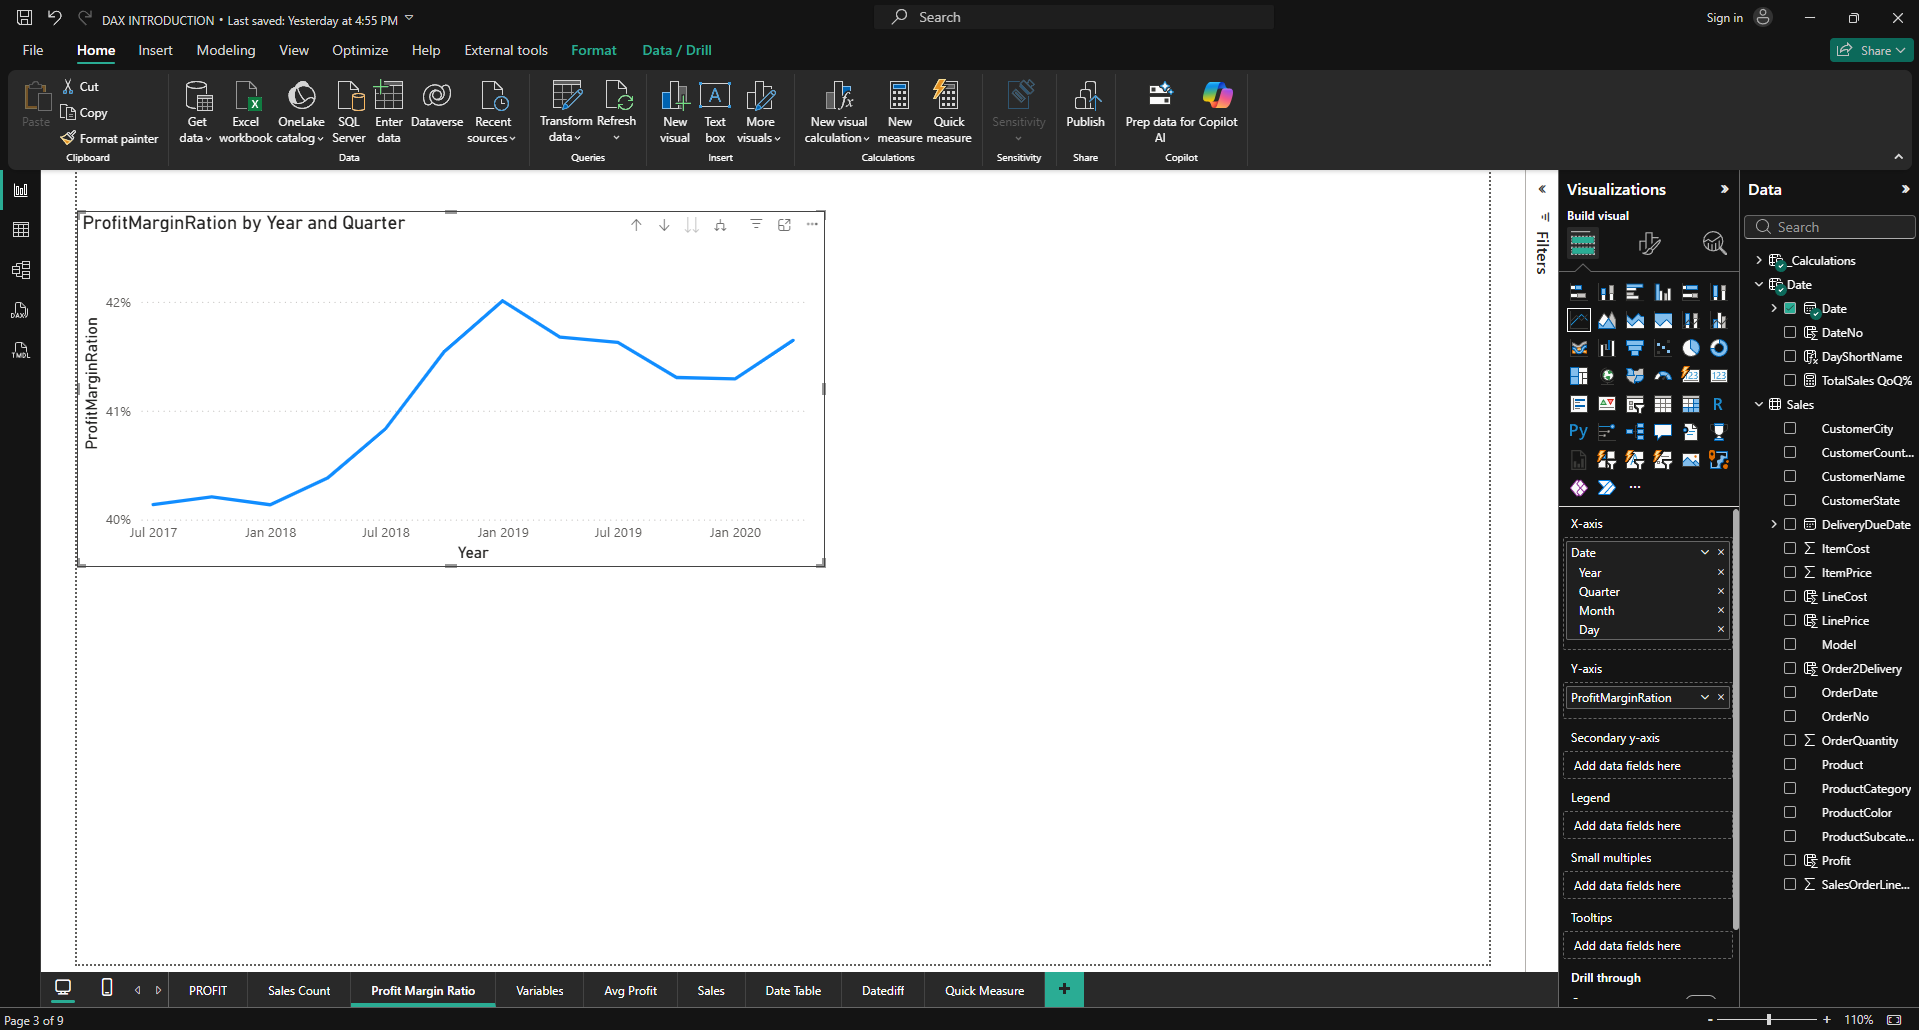

The dashboard page shown, as its layout file describes it:
{"tool":"powerbi","page":{"name":"Profit Margin Ratio","canvas":[1280,720],"ordinal":2},"visuals":[{"type":"lineChart","fields":{"Y":["_Calculations.ProfitMarginRation"],"Category":["Sales.OrderDate.Variation.Date Hierarchy.Year"]},"box":[0,37.2,678.3,322.8],"z":0}]}

Visuals, with their boxes on the page's 1280x720 design canvas (x1, y1, x2, y2). These are canvas units, not pixel positions in the 1919x1030 screenshot, which may show the page scaled, cropped or inside an application window:
lineChart - _Calculations.ProfitMarginRation x Sales.OrderDate.Variation.Date Hierarchy.Year: box(0, 37, 678, 360)
